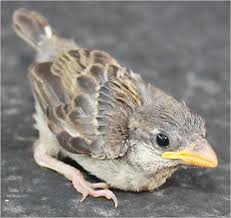hsparrow: (10, 7, 219, 199)
